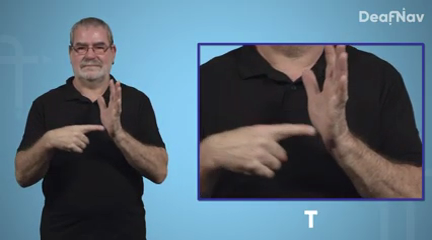T: (213, 45, 354, 179), (48, 78, 124, 155)
